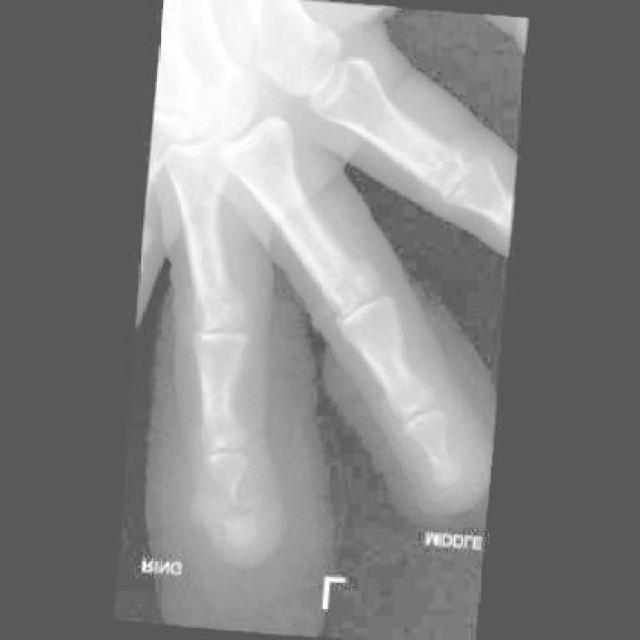Fracture: (193, 462, 259, 550)
